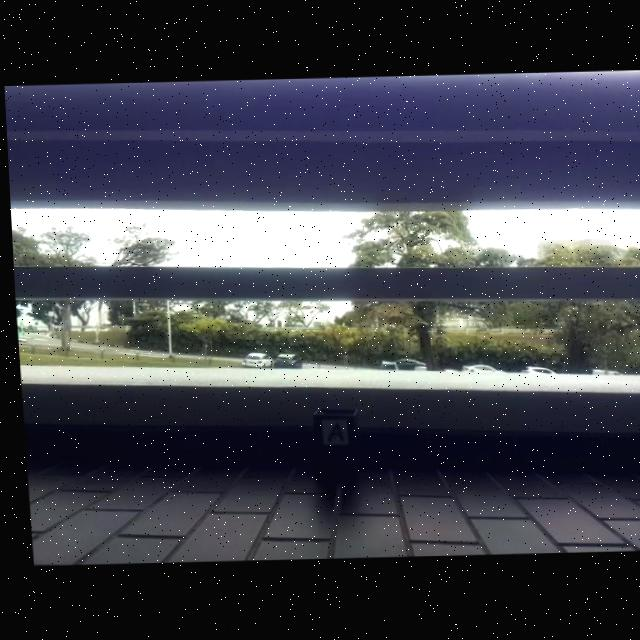A: (322, 421, 340, 443)
